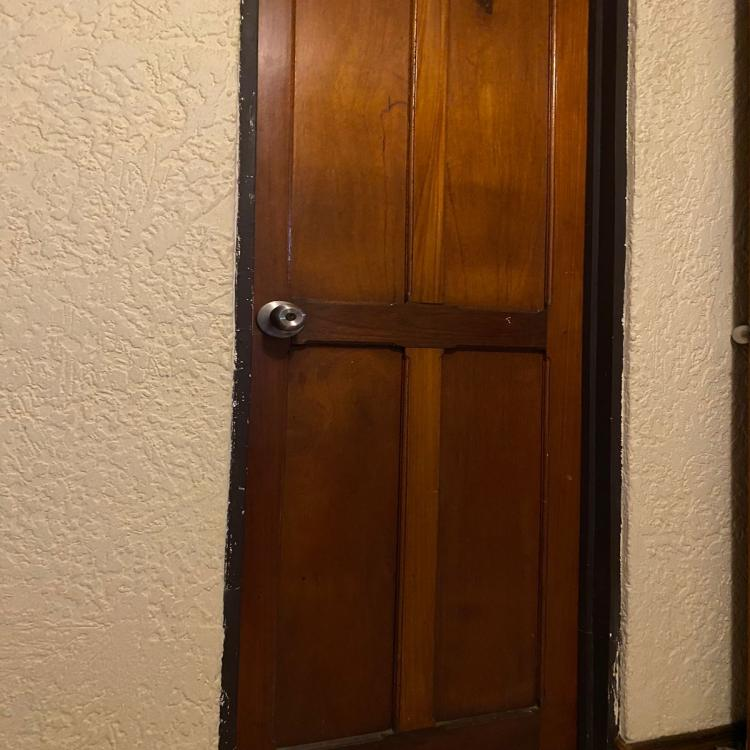ClosedDoor: (250, 0, 603, 750)
